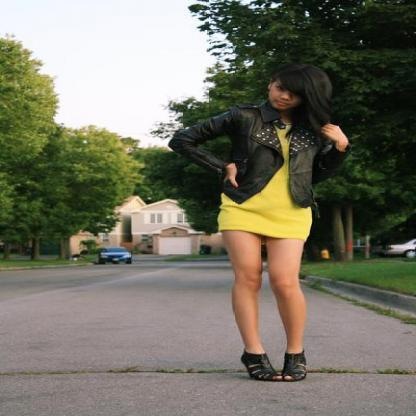dress: (218, 126, 311, 239)
jacket: (169, 104, 342, 211)
shoe: (239, 348, 311, 381)
